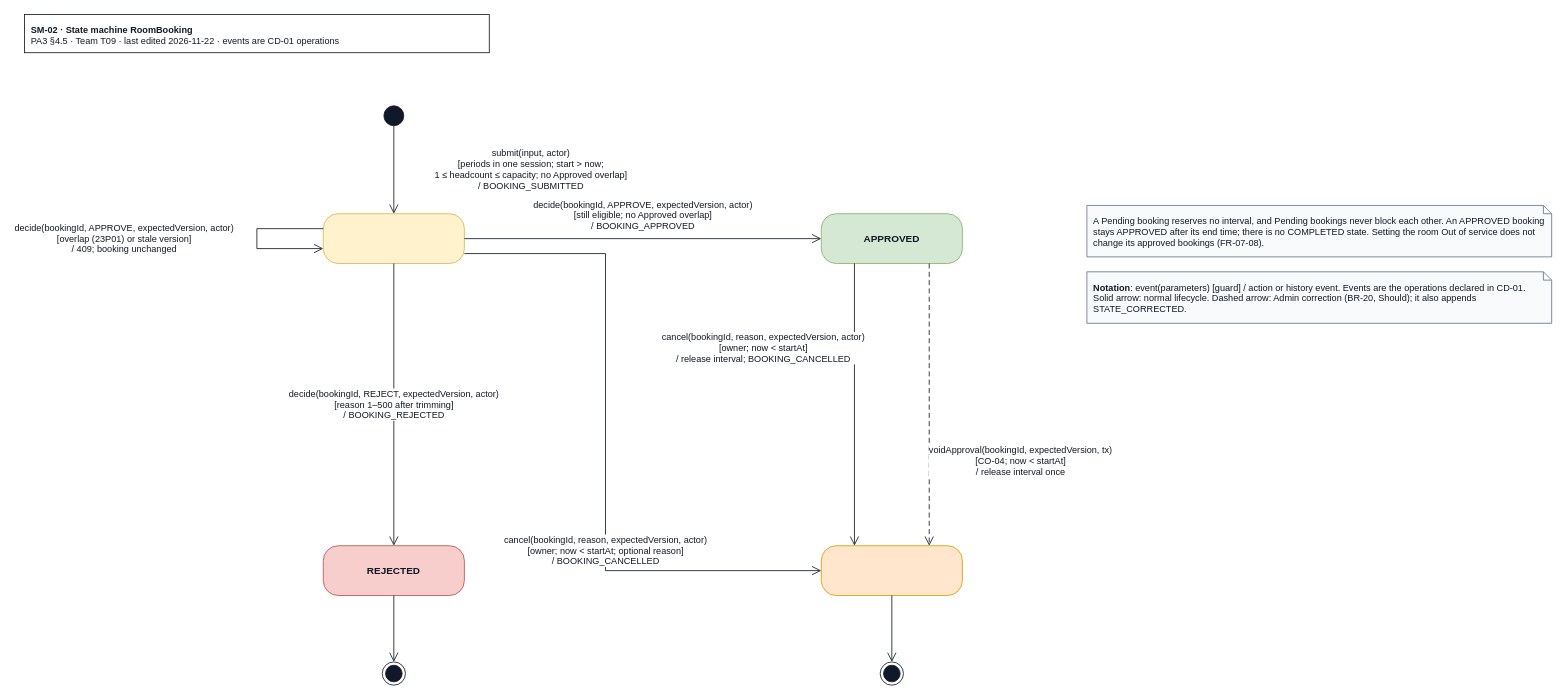
Some shapes in this 1566 by 700 pixel diagram are drawn without their labels. Each missing label, with the centre of its shape:
"CANCELLED" goes at point (891, 570).
"PENDING" goes at point (393, 238).
